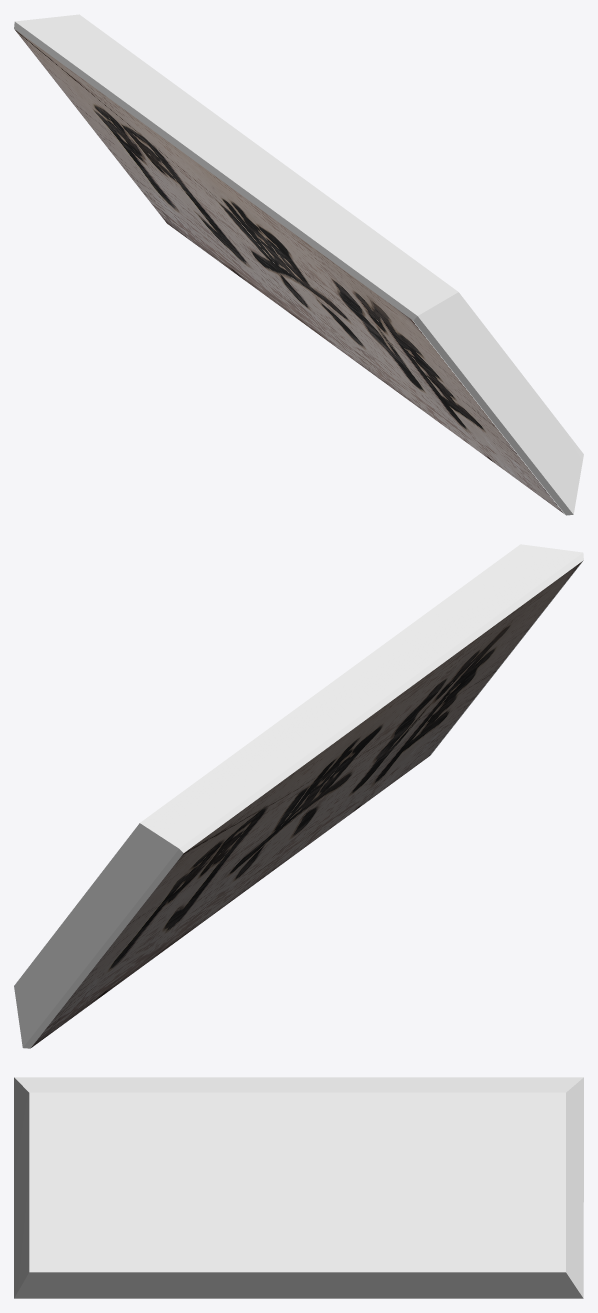
The model's file is SM_R_Sign_YY.fbx.
The picture shows the model from 3 angles, top to bottom: view 1: azimuth 30°, elevation 25°; view 2: azimuth 150°, elevation 25°; view 3: azimuth 270°, elevation 25°; orthographic projection. The views are drawn at different scales.
Parts seen in each view (by area): view 1: SM_R_Sign_YY; view 2: SM_R_Sign_YY; view 3: SM_R_Sign_YY.
Part boxes in pixels (box(x1,y1,x2,y2)): SM_R_Sign_YY: box(14, 14, 583, 515); SM_R_Sign_YY: box(14, 544, 583, 1048); SM_R_Sign_YY: box(14, 1077, 583, 1298).
Bounding box in the file's own units: 25.24 × 97.85 × 32.3.
Materials: 1 (1 with a texture image).
